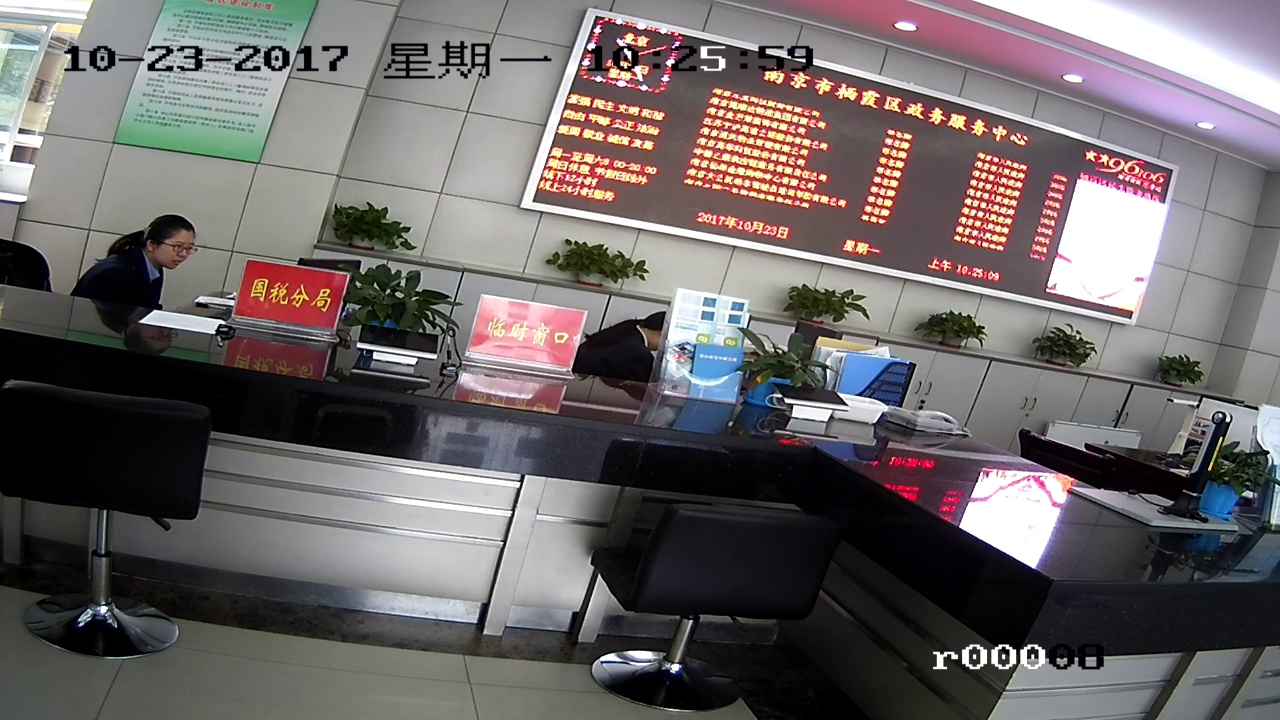billboard: (148, 11, 270, 155), (470, 299, 583, 367), (248, 267, 318, 338)
chair: (23, 375, 205, 670), (594, 491, 829, 702)
monitor: (590, 40, 1017, 250)
person: (114, 203, 206, 294)
pot: (548, 235, 652, 289), (367, 266, 434, 334), (768, 282, 871, 324), (1036, 322, 1105, 373), (928, 302, 1001, 348), (339, 201, 400, 252), (1153, 349, 1225, 392)
